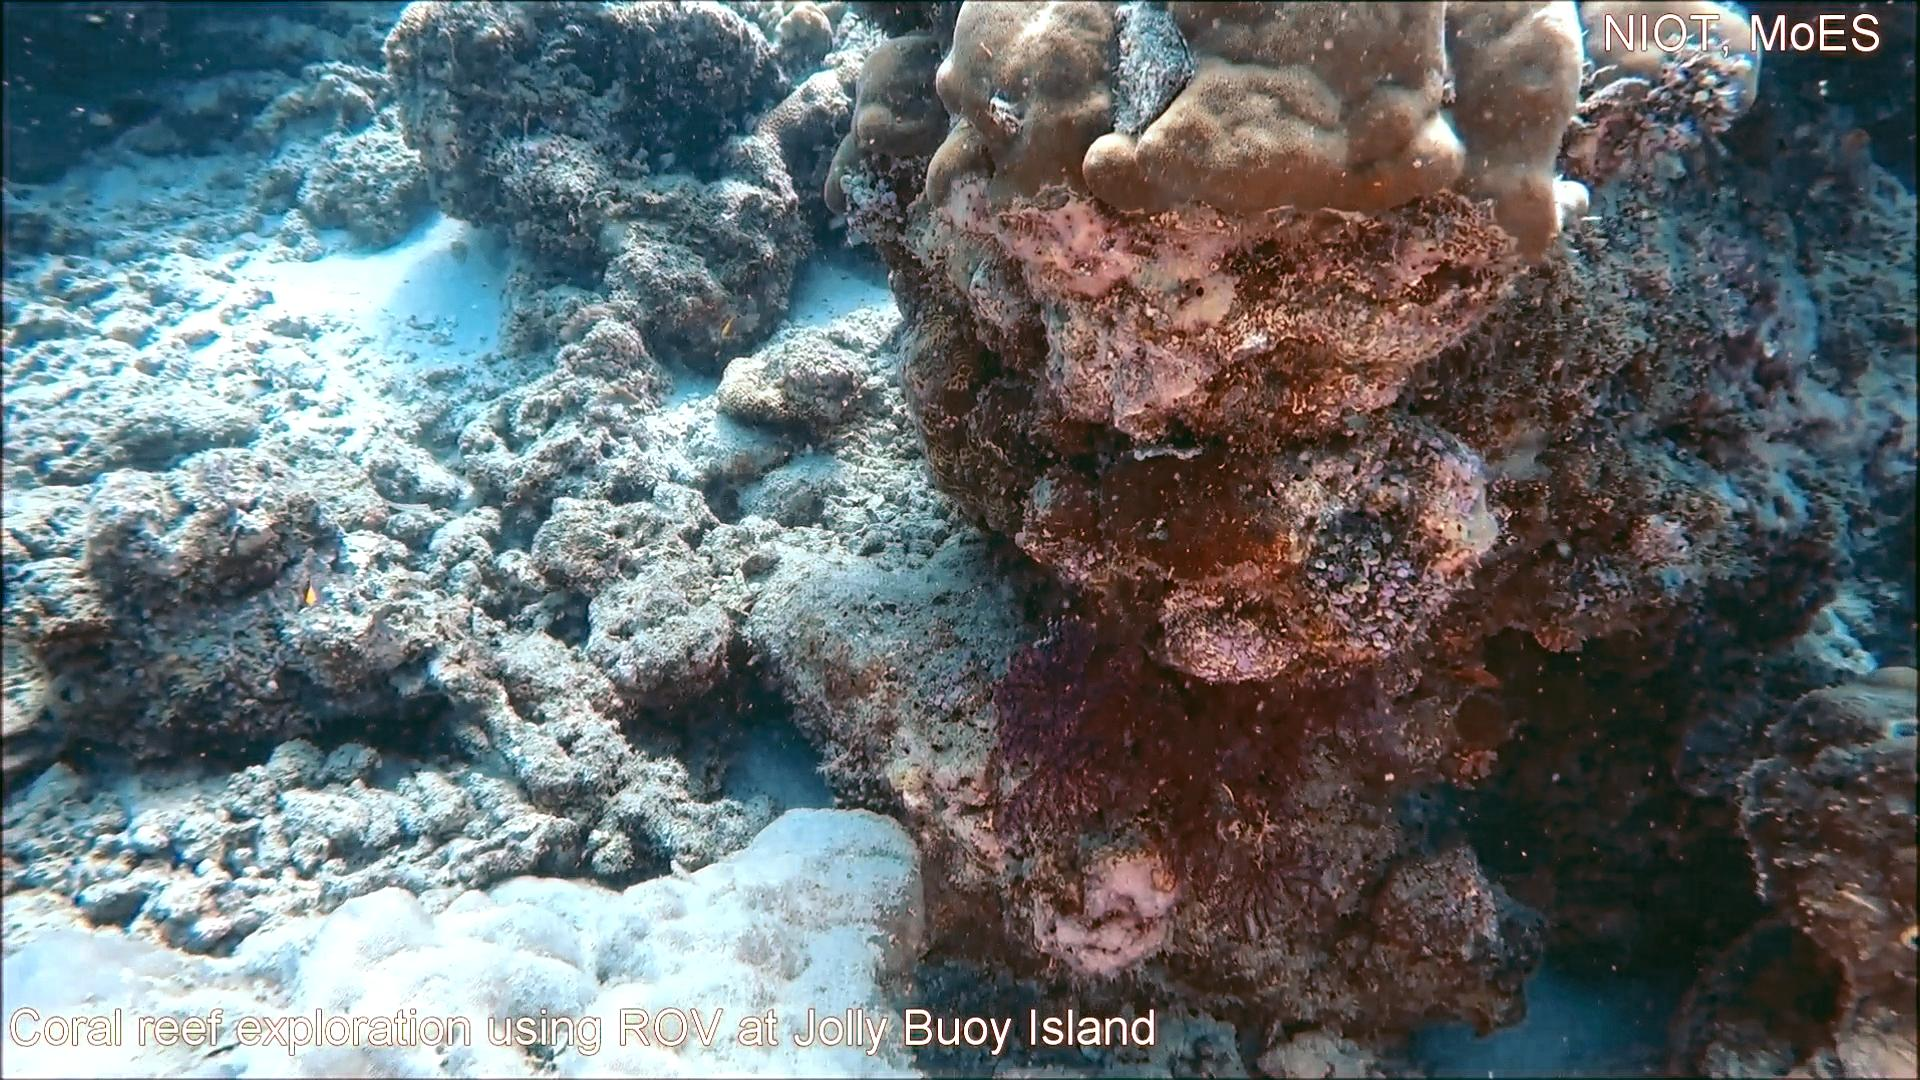Gorgonian-Purple Plexaura: (976, 584, 1423, 956)
Porites-Porites pukoensis: (272, 800, 935, 1080), (922, 0, 1589, 268)
